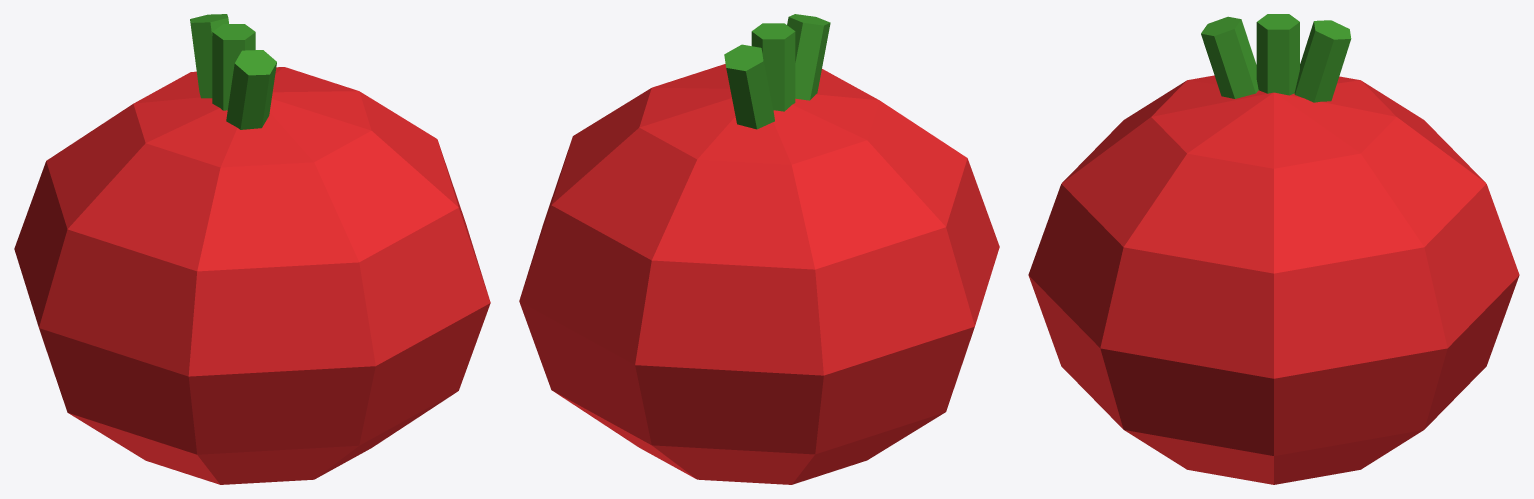
File: tomato.fbx
3 renders of one model, left to right at view 1: azimuth 30°, elevation 25°; view 2: azimuth 150°, elevation 25°; view 3: azimuth 270°, elevation 25°, orthographic.
Visible parts, largest first — view 1: Sphere, Cylinder.001, Cylinder, Cylinder.002; view 2: Sphere, Cylinder.002, Cylinder, Cylinder.001; view 3: Sphere, Cylinder, Cylinder.001, Cylinder.002.
Part boxes in pixels (x1,y1,x2,y2): Sphere: [14, 67, 490, 484]; Cylinder.001: [226, 50, 276, 129]; Cylinder: [212, 24, 255, 110]; Cylinder.002: [190, 14, 228, 98]; Sphere: [519, 64, 999, 484]; Cylinder.002: [724, 44, 774, 129]; Cylinder: [751, 23, 795, 111]; Cylinder.001: [787, 14, 830, 100]; Sphere: [1028, 75, 1519, 484]; Cylinder: [1256, 14, 1299, 95]; Cylinder.001: [1201, 16, 1258, 98]; Cylinder.002: [1294, 20, 1351, 102].
Bounding box in the file's own units: 200 × 192 × 200.
